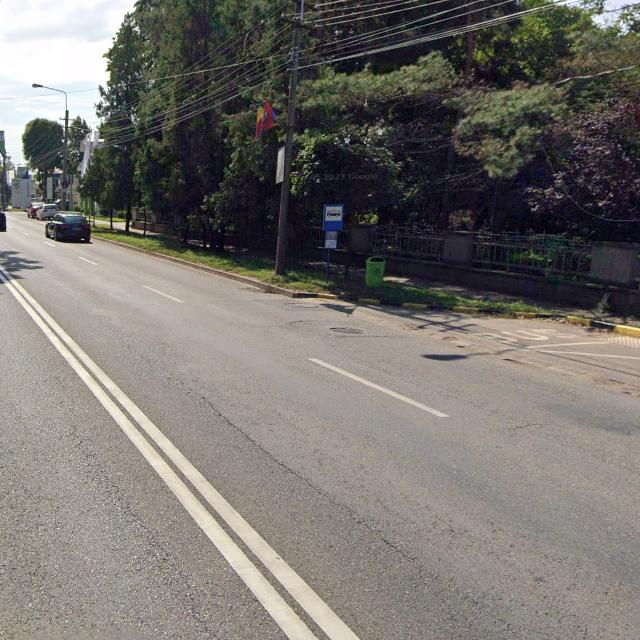info_bus_station: (323, 203, 344, 230)
